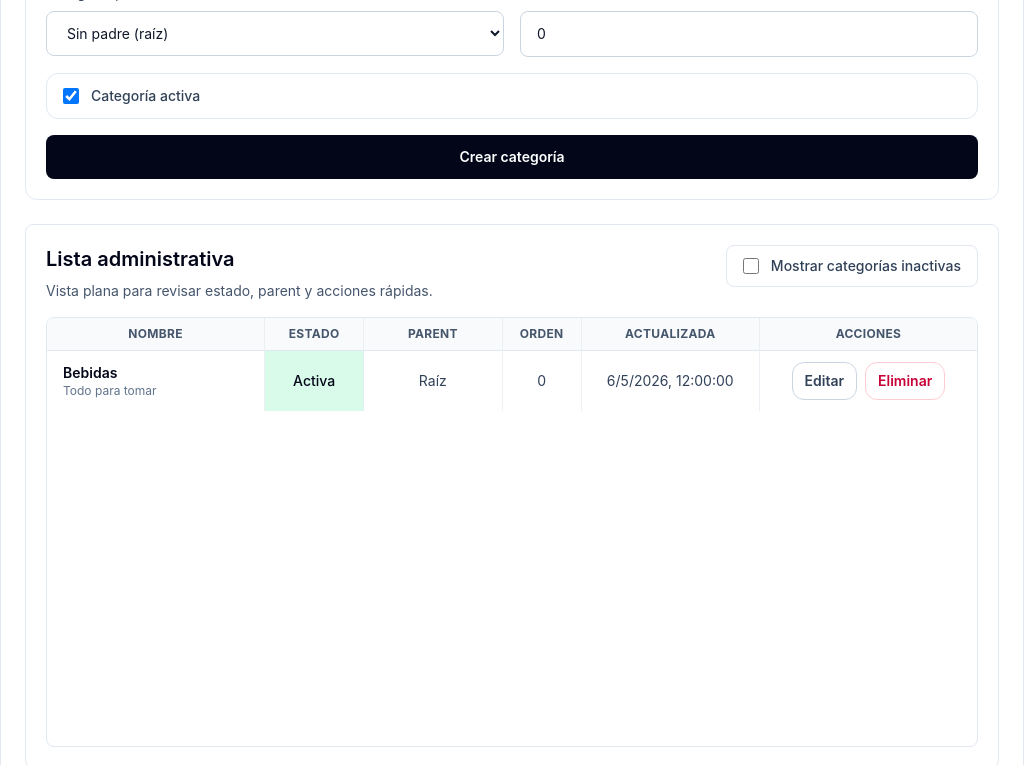
Test: CategoryManagementPage › shows delete restriction errors without breaking the current screen
(page scrolled)
Click the button "Eliminar".
click(905, 381)  # box top-left (865, 362), bottom-right (945, 400)
(page scrolled)
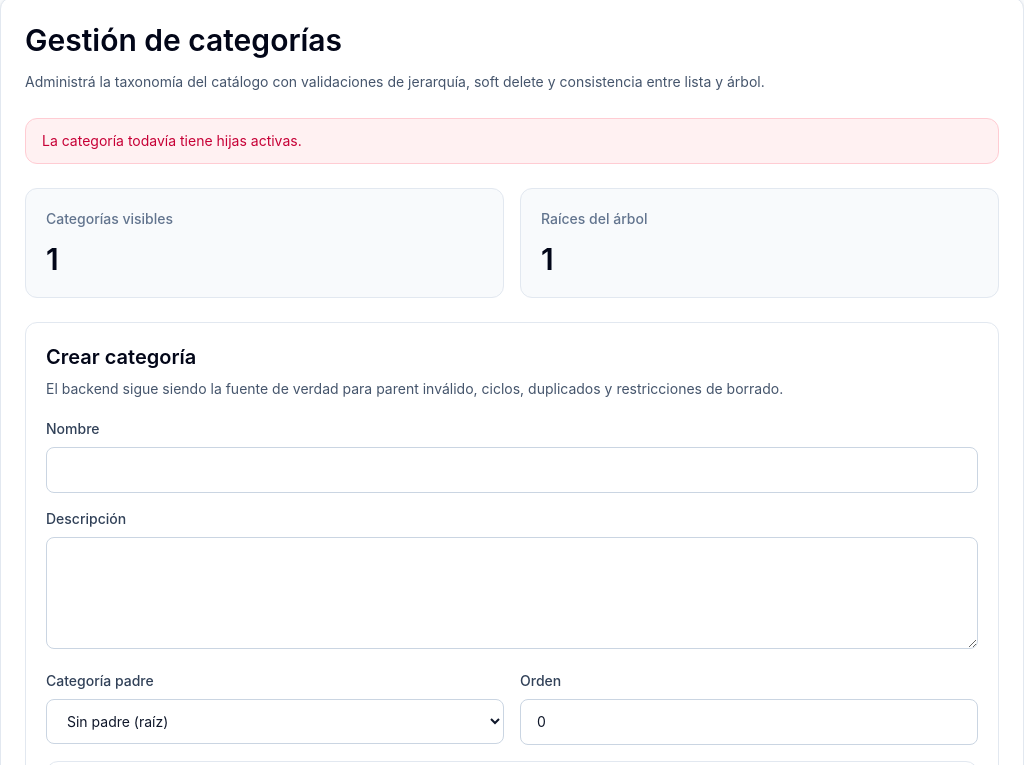
Check: the heading "Gestión de categorías" is shown, box top-left (25, 22), bottom-right (342, 58)
Check: the message reads "La categoría todavía tiene hijas activas.", box top-left (42, 132), bottom-right (302, 149)
